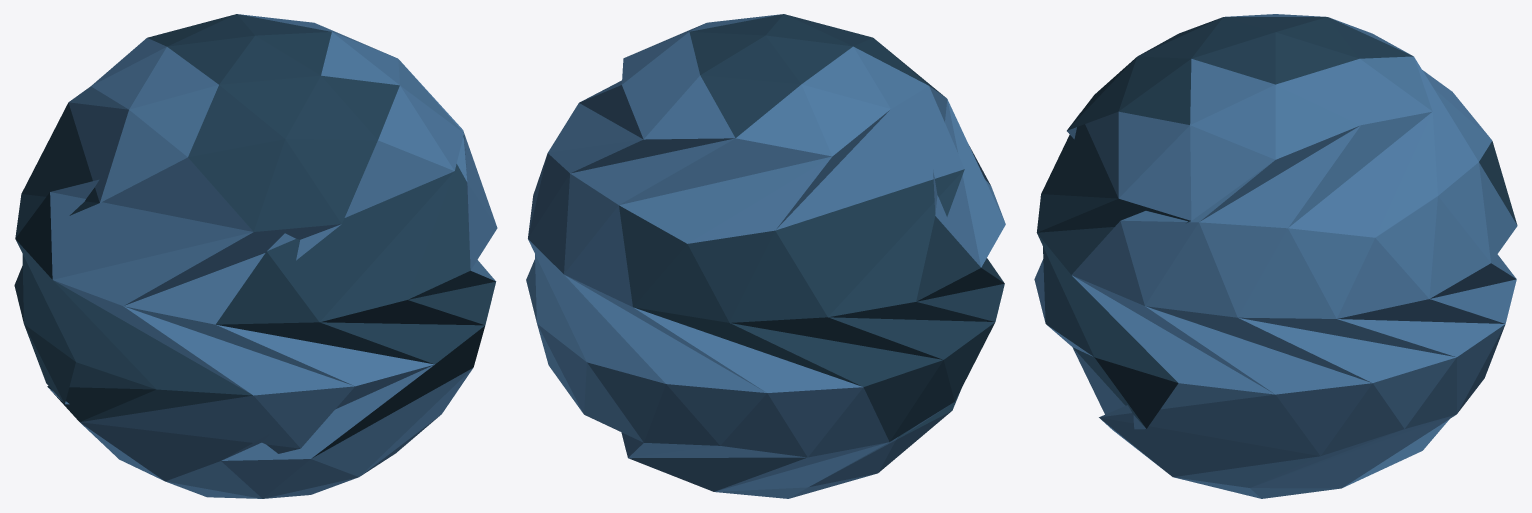
3 renders of one model, left to right at view 1: azimuth 30°, elevation 25°; view 2: azimuth 150°, elevation 25°; view 3: azimuth 270°, elevation 25°, orthographic.
Visible parts, largest first — view 1: GeoSphere001; view 2: GeoSphere001; view 3: GeoSphere001.
Boxes of the visible parts, box(x1,y1,x2,y2) form: GeoSphere001: box(14, 14, 497, 498); GeoSphere001: box(526, 14, 1005, 498); GeoSphere001: box(1034, 14, 1517, 498).
Bounding box in the file's own units: 3.76 × 3.81 × 3.75.
